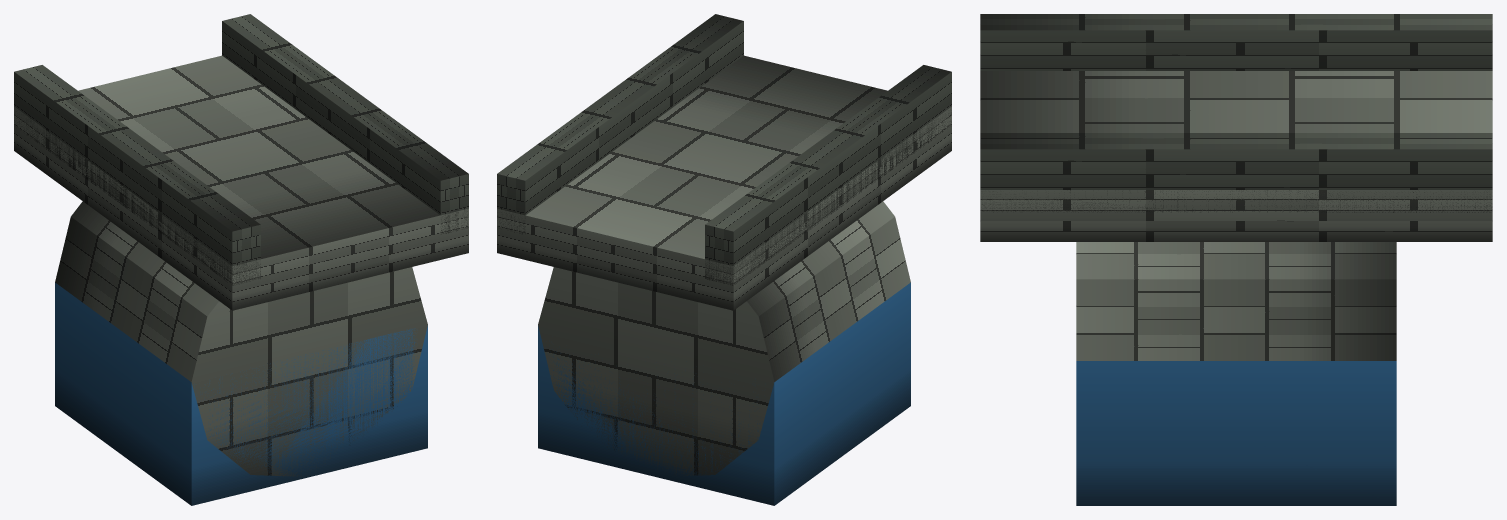
The model's file is stone_bridge.glb.
3 renders of one model, left to right at view 1: azimuth 30°, elevation 25°; view 2: azimuth 150°, elevation 25°; view 3: azimuth 270°, elevation 25°, orthographic. The views are drawn at different scales.
Visible parts, largest first — view 1: stone_bridge; view 2: stone_bridge; view 3: stone_bridge.
Boxes of the visible parts, x1,y1,x2,y2 form: stone_bridge: (14, 14, 468, 505); stone_bridge: (497, 14, 951, 505); stone_bridge: (980, 14, 1492, 505).
Bounding box in the file's own units: 1 × 1.23 × 1.6.
1 material, 1 textured.
